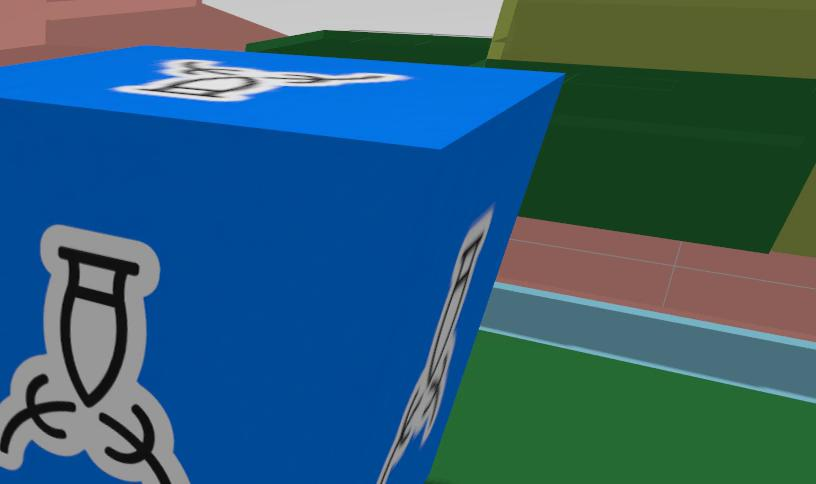KFS_REAL: (0, 46, 559, 484), (0, 225, 189, 484), (376, 207, 492, 484), (113, 58, 410, 101)
